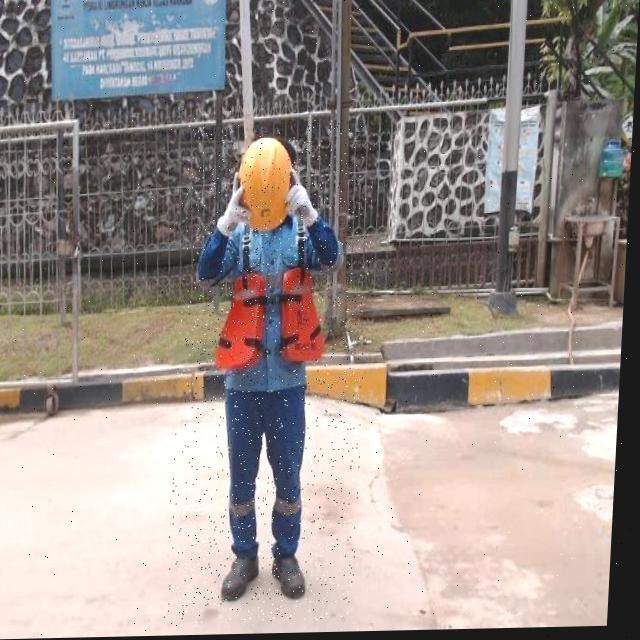Gloves: (218, 186, 254, 237), (287, 184, 322, 230)
Helmet: (236, 137, 295, 233)
Safety-Boot: (226, 555, 265, 602), (276, 555, 313, 600)
Safety-Vest: (216, 211, 334, 372)
